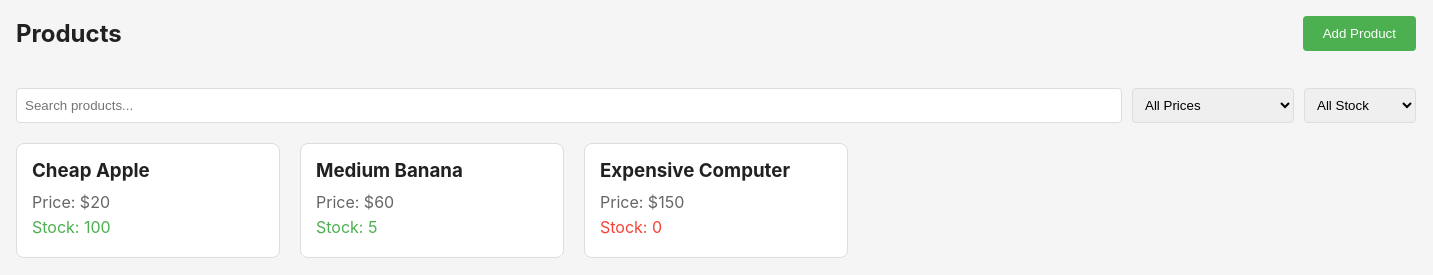
Test: ProductList Component › filters products by price category
The width and height of the screenshot is (1433, 275).
Expected: the heading "Cheap Apple" is shown, [32,159,150,182]
Select "Low (< $50)" in the 1st dropdown at (1213, 105), box [1132,88,1294,123]
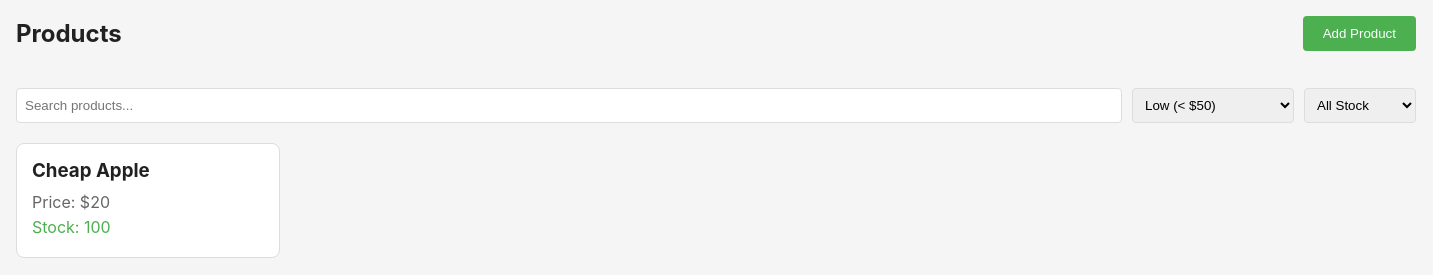
Expected: the heading "Cheap Apple" is shown, [32,159,150,182]
Expected: the heading "Medium Banana" is gone
Select "High (> $100)" in the 1st dropdown at (1213, 105), box [1132,88,1294,123]
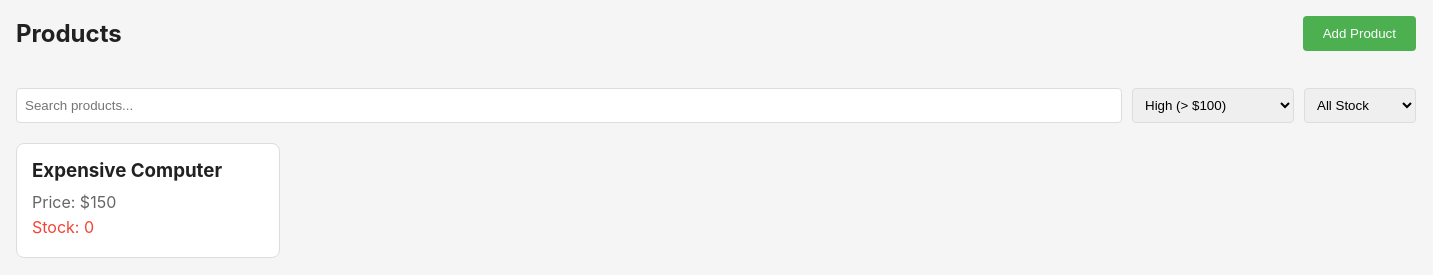
Expected: the heading "Expensive Computer" is shown, [32,159,222,182]
Expected: the heading "Cheap Apple" is gone
